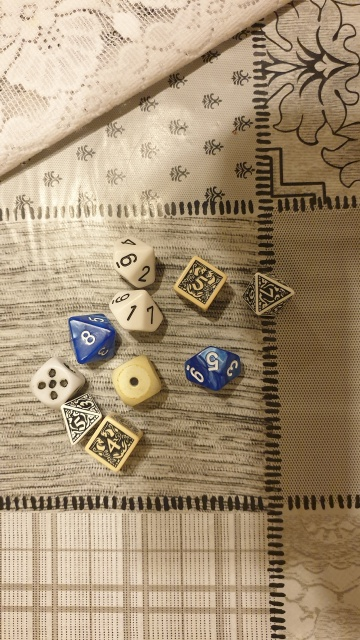d10-1: (104, 285, 167, 338)
d10-5: (180, 342, 244, 396)
d10-6: (108, 233, 162, 289)
d10-8: (60, 310, 112, 364)
d6-1: (106, 352, 166, 413)
d6-5: (22, 354, 86, 412)
d6p-4: (87, 415, 143, 475)
d6p-5: (172, 255, 224, 313)
d8p-5: (57, 393, 101, 444)
d8p-7: (240, 265, 296, 323)
